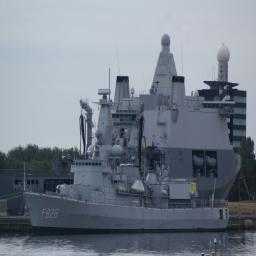Fragata: (23, 73, 231, 242)
